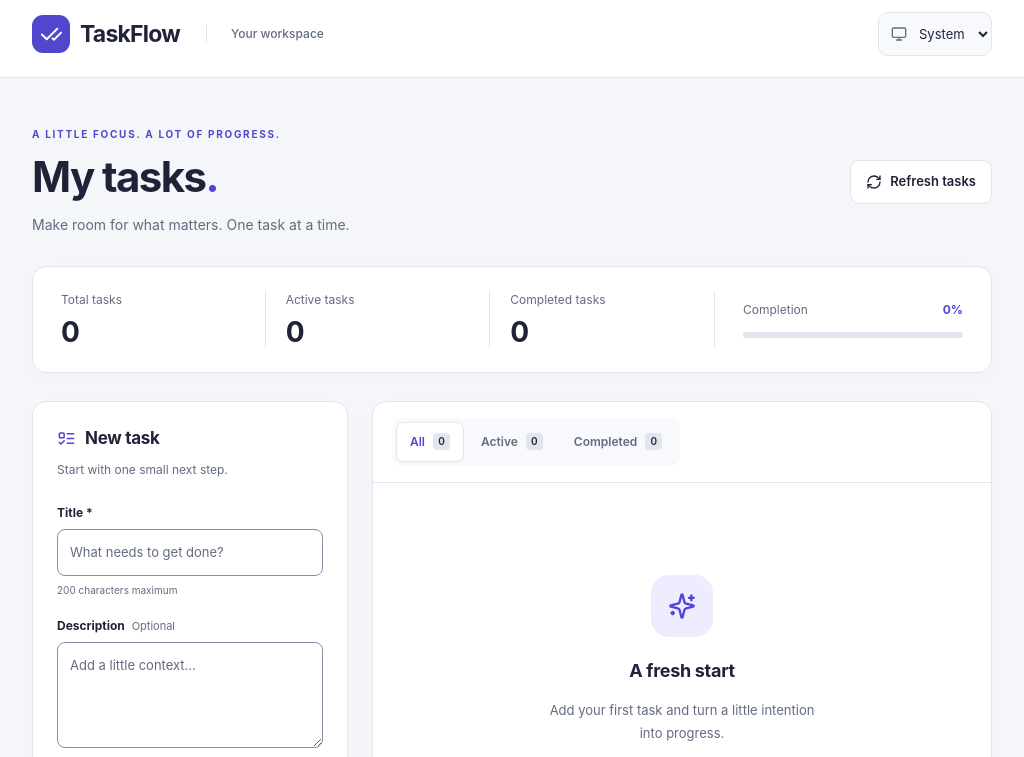
Test case: Task workspace › preserves input after HTTP validation failure
Type "Keep draft" into the field labelled "Title *" at (190, 553), box [57,530,323,576]
(page scrolled)
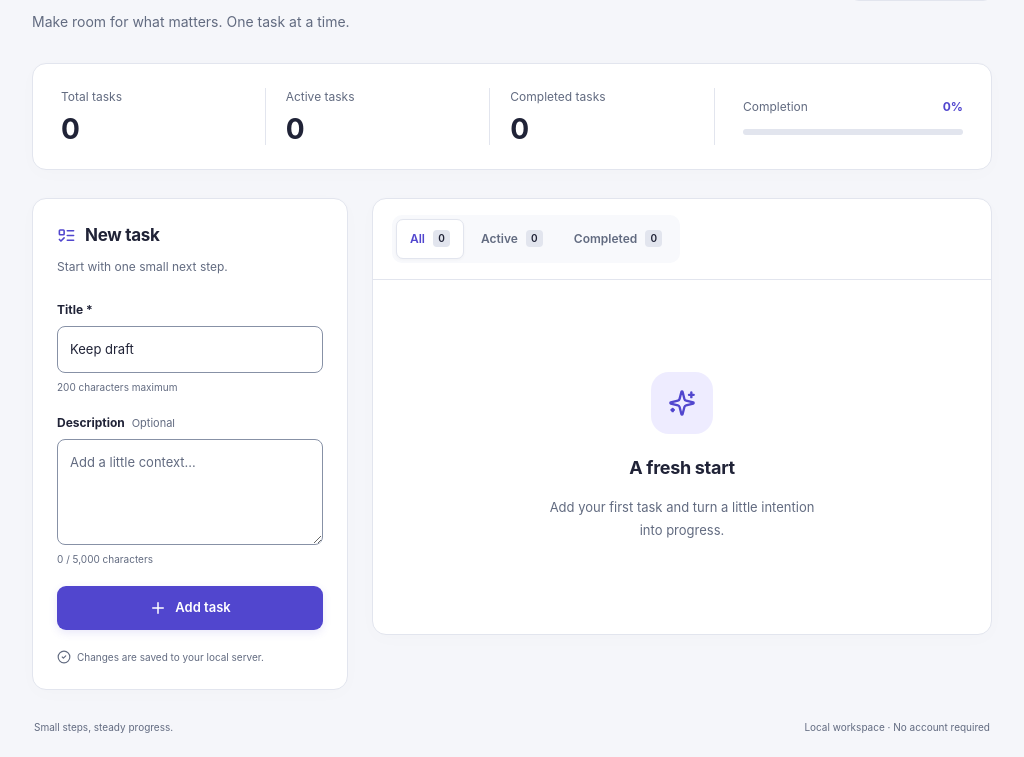
Submit the form named "Create task", box [57,302,323,630]
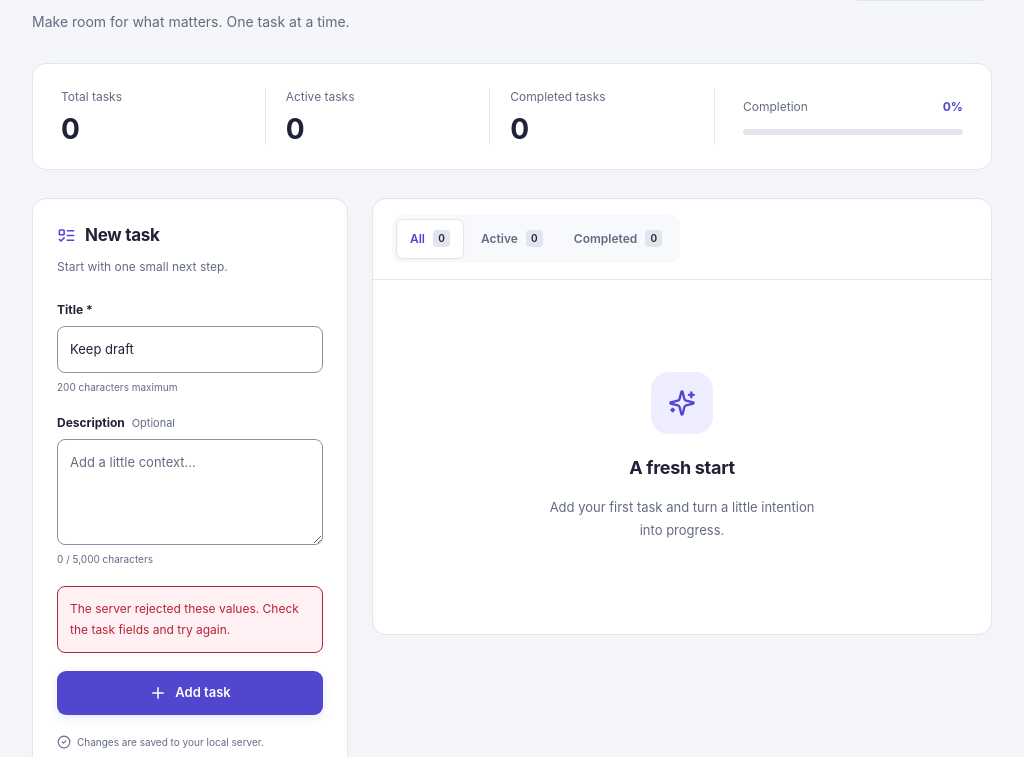
Now the message shows "server rejected", box [70,601,299,637]
